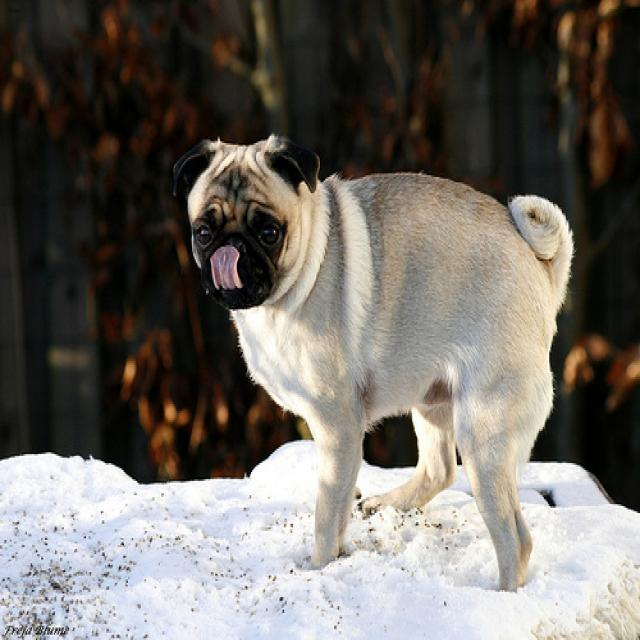dog-pug: (165, 127, 582, 604)
